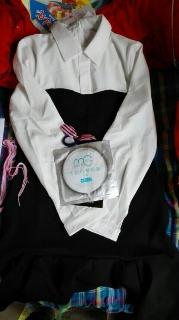long sleeve dress: (0, 14, 179, 320)
